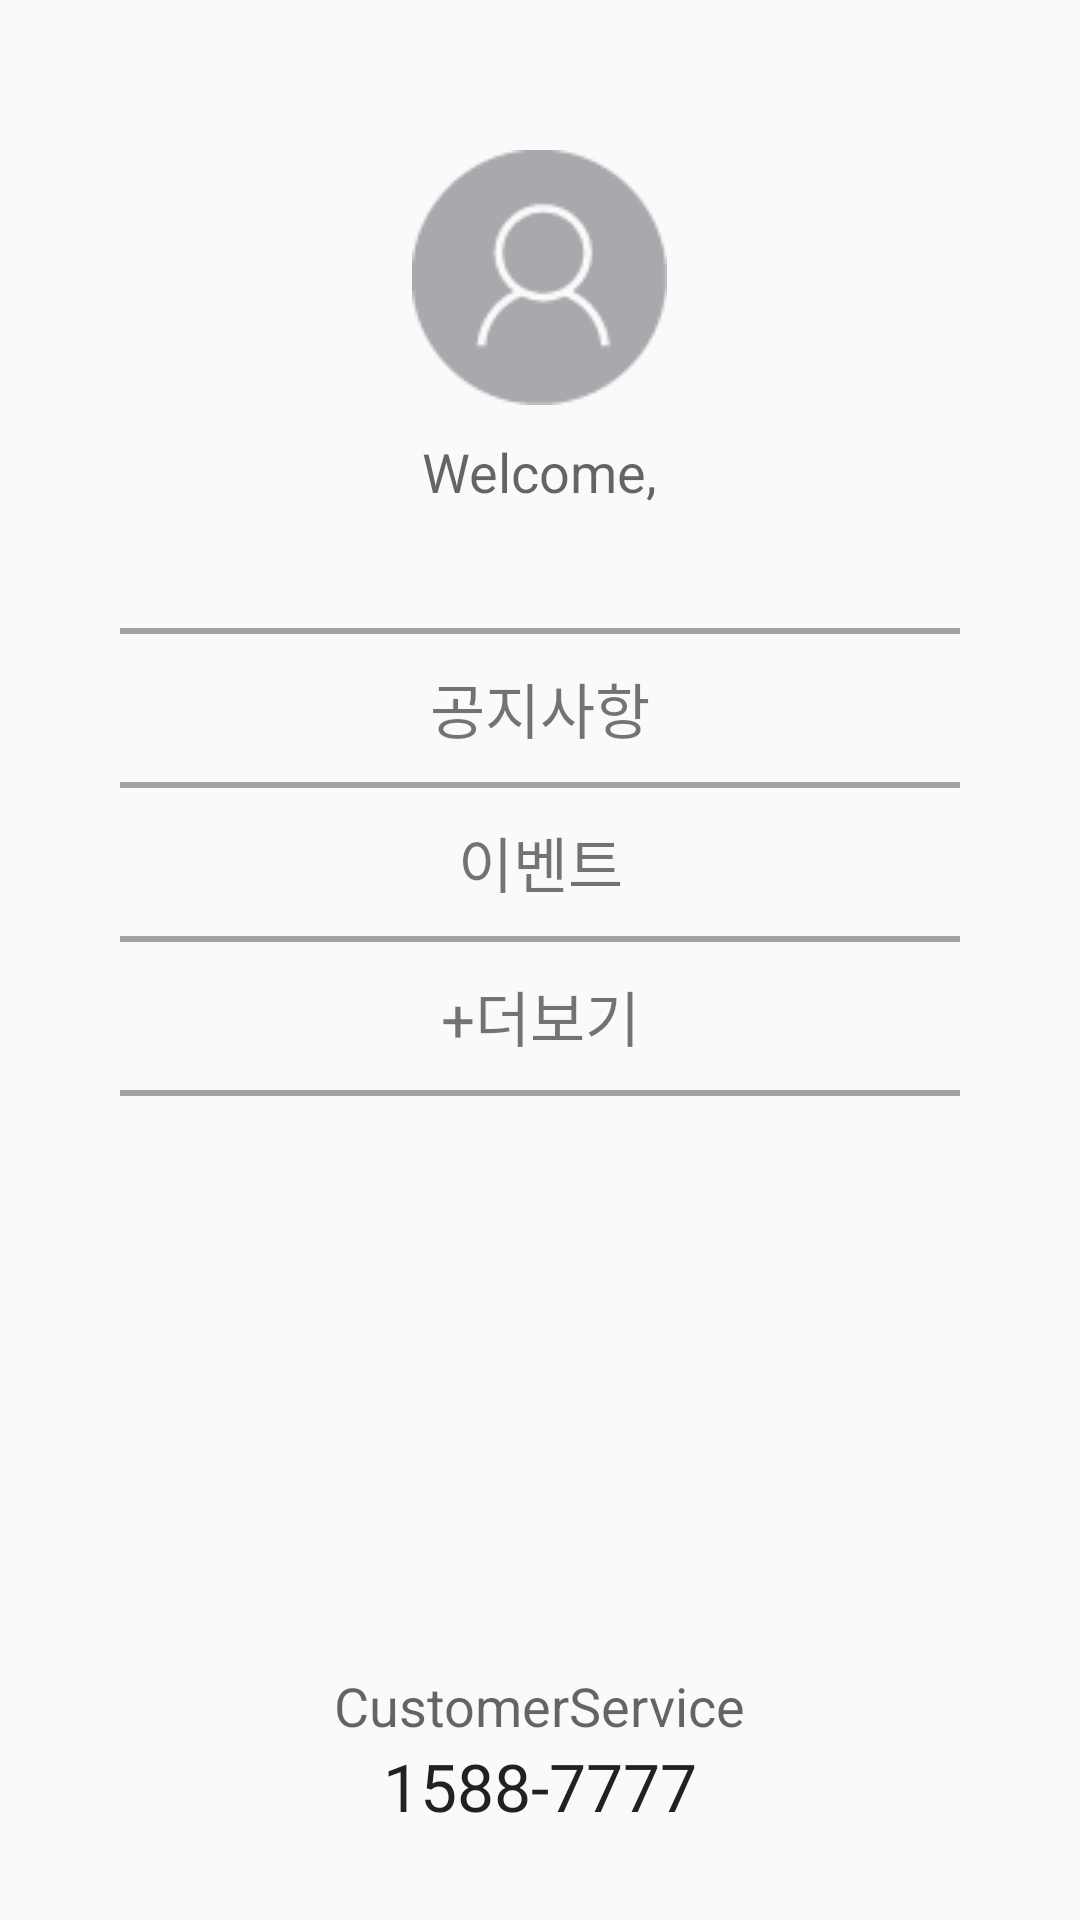

Where to tap for icons on this 1080px x 1920px app screen, as (x,y):
profile: (539,277)
